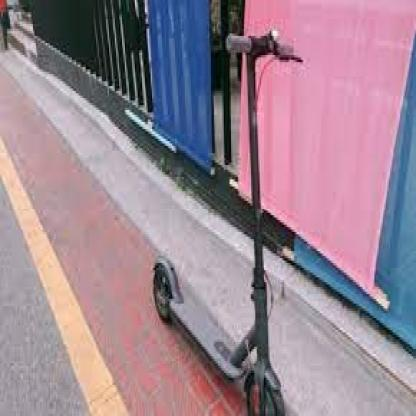kickboard: (153, 31, 302, 415)
